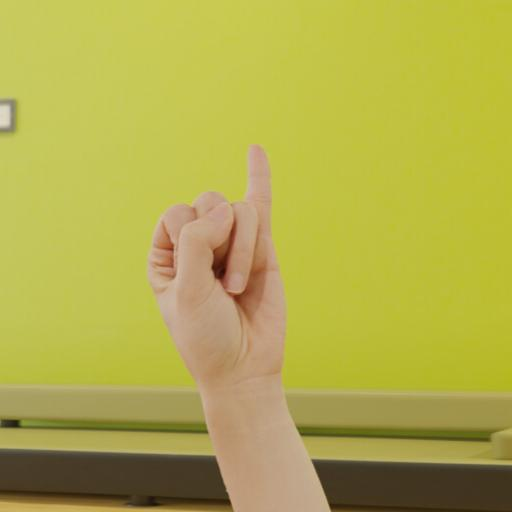I: (139, 131, 317, 389)
